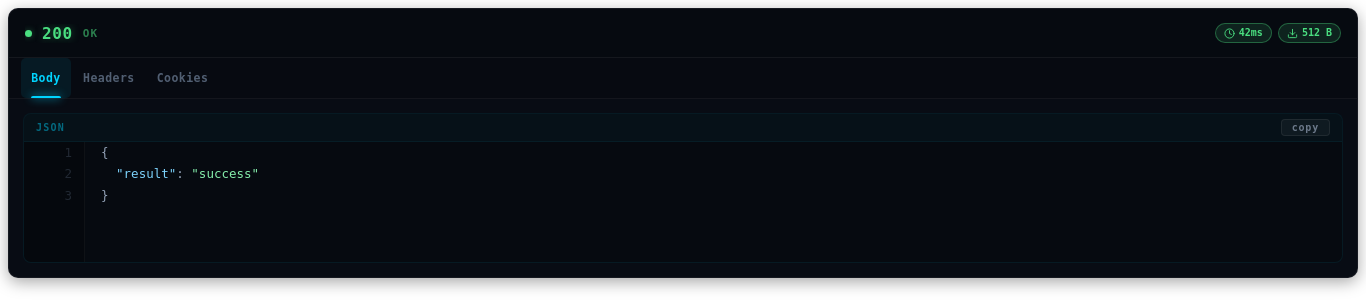
Test: ResponsePanel — interacción de pestañas › muestra el estado vacío de cookies al hacer clic en la pestaña Cookies cuando no hay cookies
What coordinates should you click on to do the following:
click the button "Cookies"
I would click on:
 (183, 78)
Its box is [147,58,218,98].
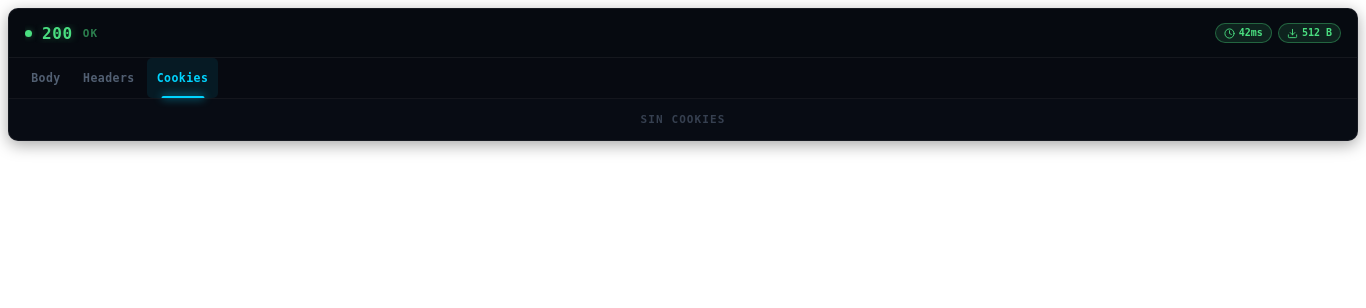
Check: the text "Sin cookies" is shown, box [640,113,726,126]
